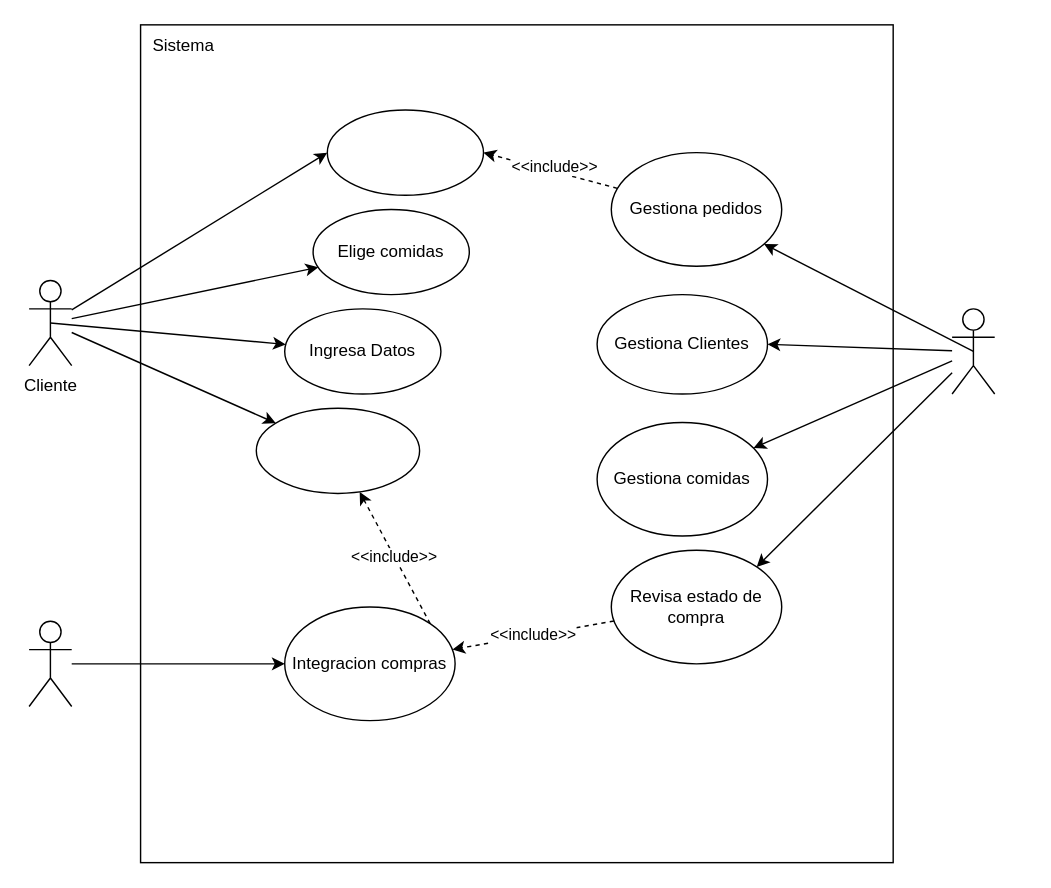
This 1051x888 diagram has some shape labels left out. Here are the shapes that lost their labels. From the top down, the centre of each, then its label:
At (405,152): "Realiza pedidos".
At (973,350): "Administrador".
At (337,450): "Realiza compra".
At (50,663): "Flow".
